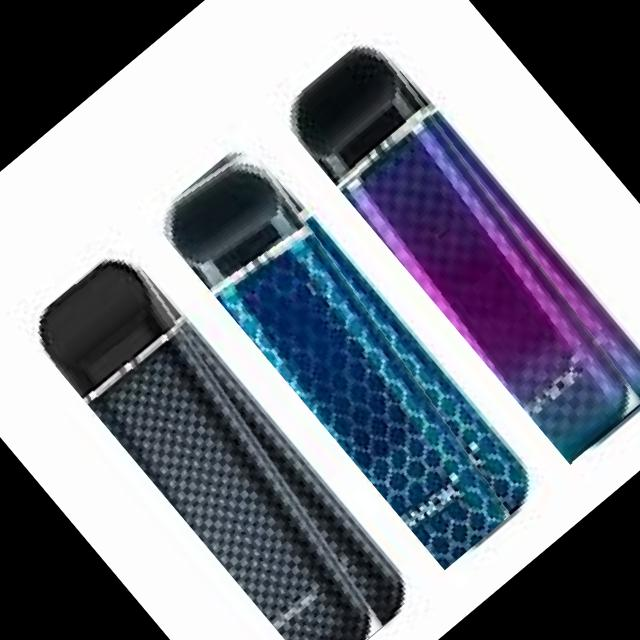Hazard: (148, 134, 541, 569), (20, 239, 419, 640), (273, 28, 640, 463)
